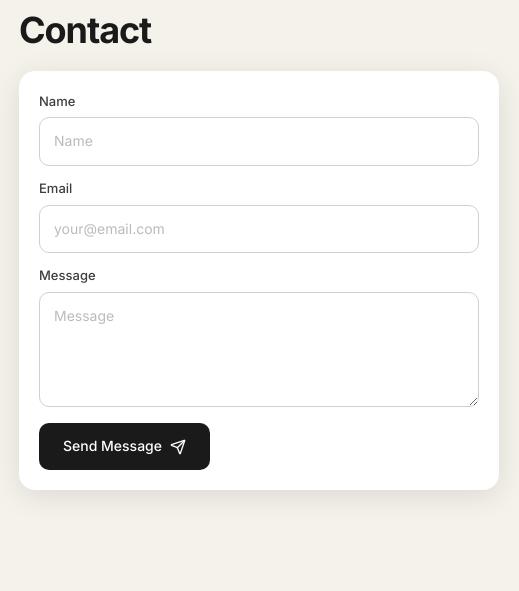
Test: ContactPage › validation › shows error for empty required fields
Click the button "Send Message" at x=124, y=446, box [39,423,210,470]
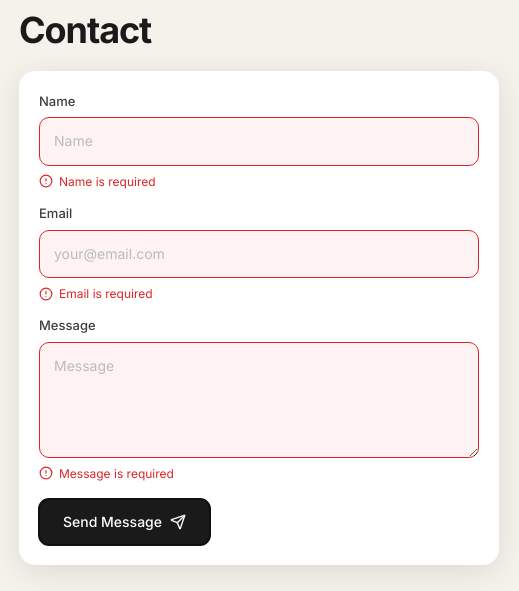
Expected: the text "Name is required" is shown, [39,174,156,189]
Expected: the text "Email is required" is shown, [39,286,153,301]
Expected: the text "Message is required" is shown, [39,466,174,481]
